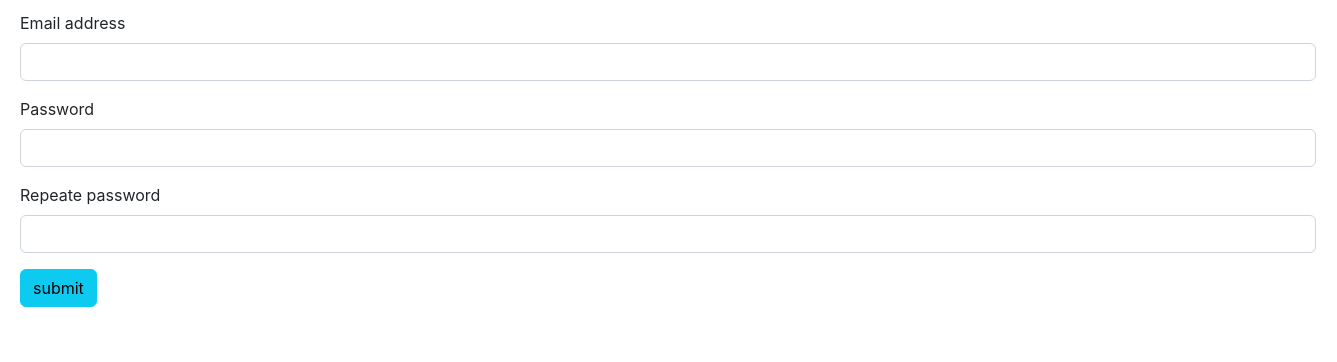
should show password error message on invalid password 4 or less characters
In the field labelled "Email": (668, 62) left=20, top=43, right=1316, bottom=81, type "ismaelcobo@gmail.com"
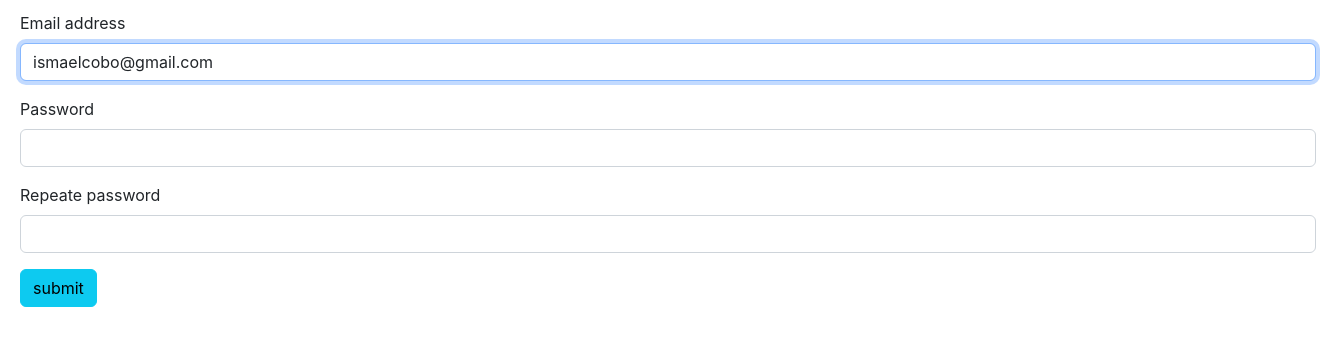
In the password field labelled "Password": (668, 148) left=20, top=129, right=1316, bottom=167, type "1234"
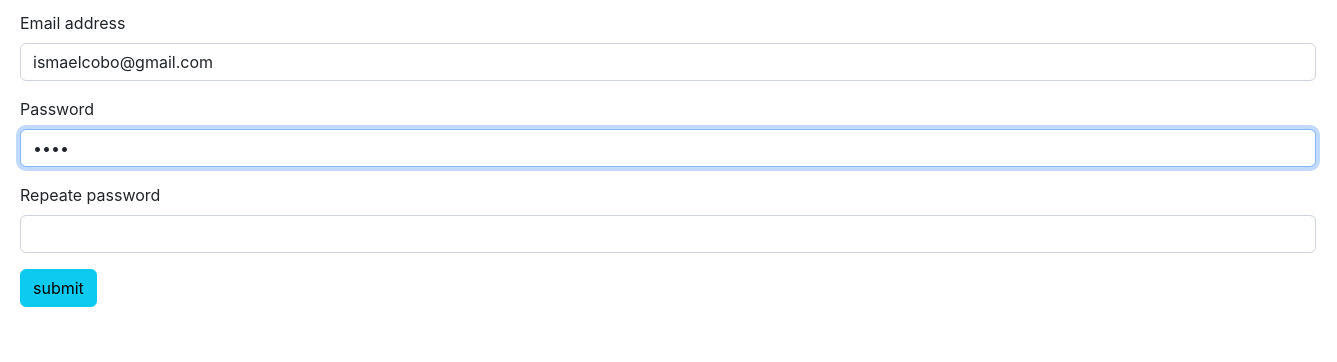
Click the button with aria-label "submitButton": (58, 288) left=20, top=269, right=97, bottom=307
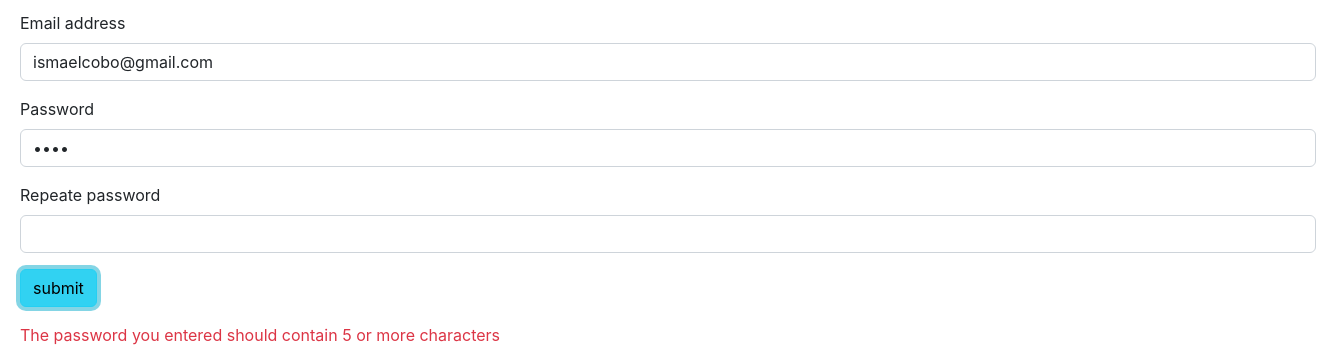
Now the text "The password you entered should contain 5 or more characters" is shown, box left=20, top=325, right=500, bottom=345
